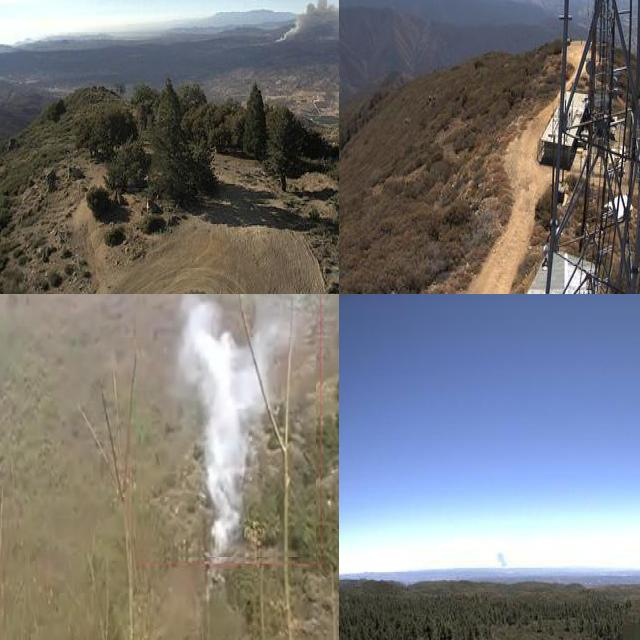smoke: (178, 294, 294, 555), (272, 0, 339, 41), (493, 544, 513, 572)
